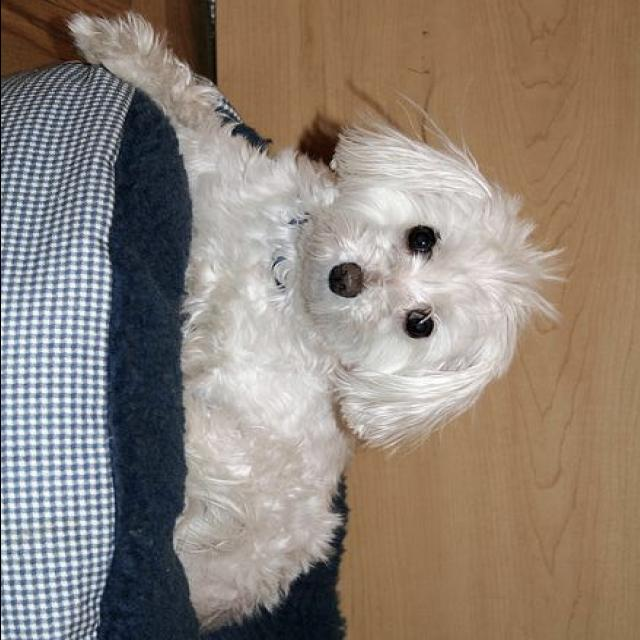maltese_dog: (70, 10, 564, 630)
